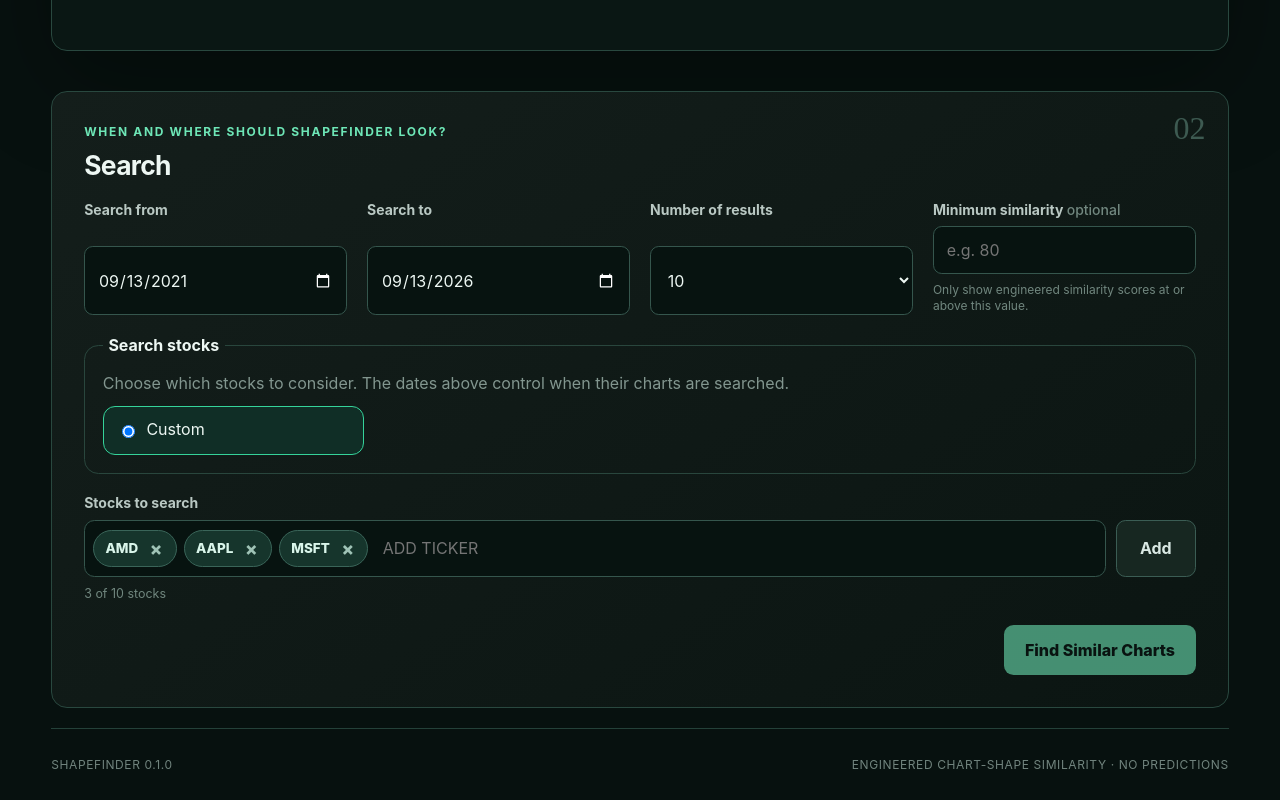
Scenario: candidate symbol controls › accepts comma-separated paste and enforces the 10-symbol maximum
This screenshot has width=1280, height=800.
(page scrolled)
Type "S1,S2,S3,S4,S5,S6,S7,S8" into the field labelled "Stocks to search" at (736,548), box [376,529,1097,568]
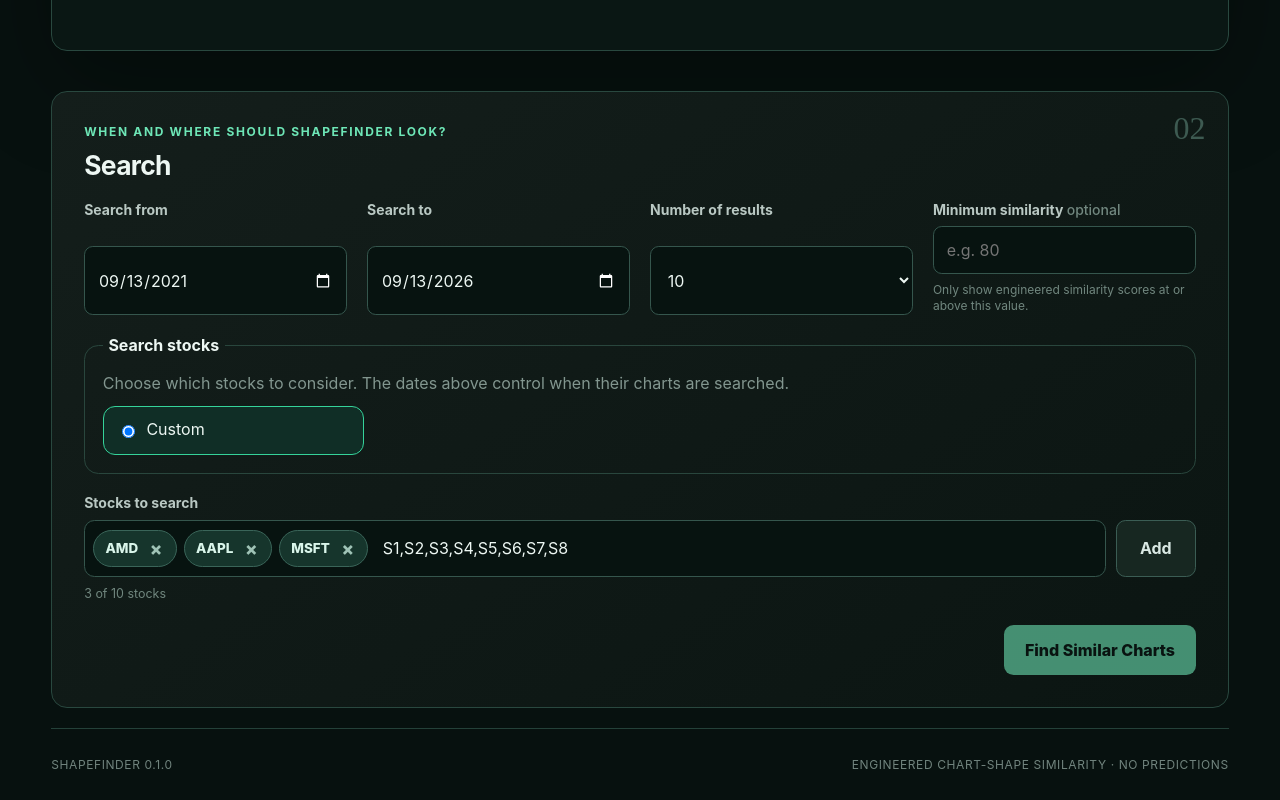
Press Enter in the field labelled "Stocks to search", box [376,529,1097,568]
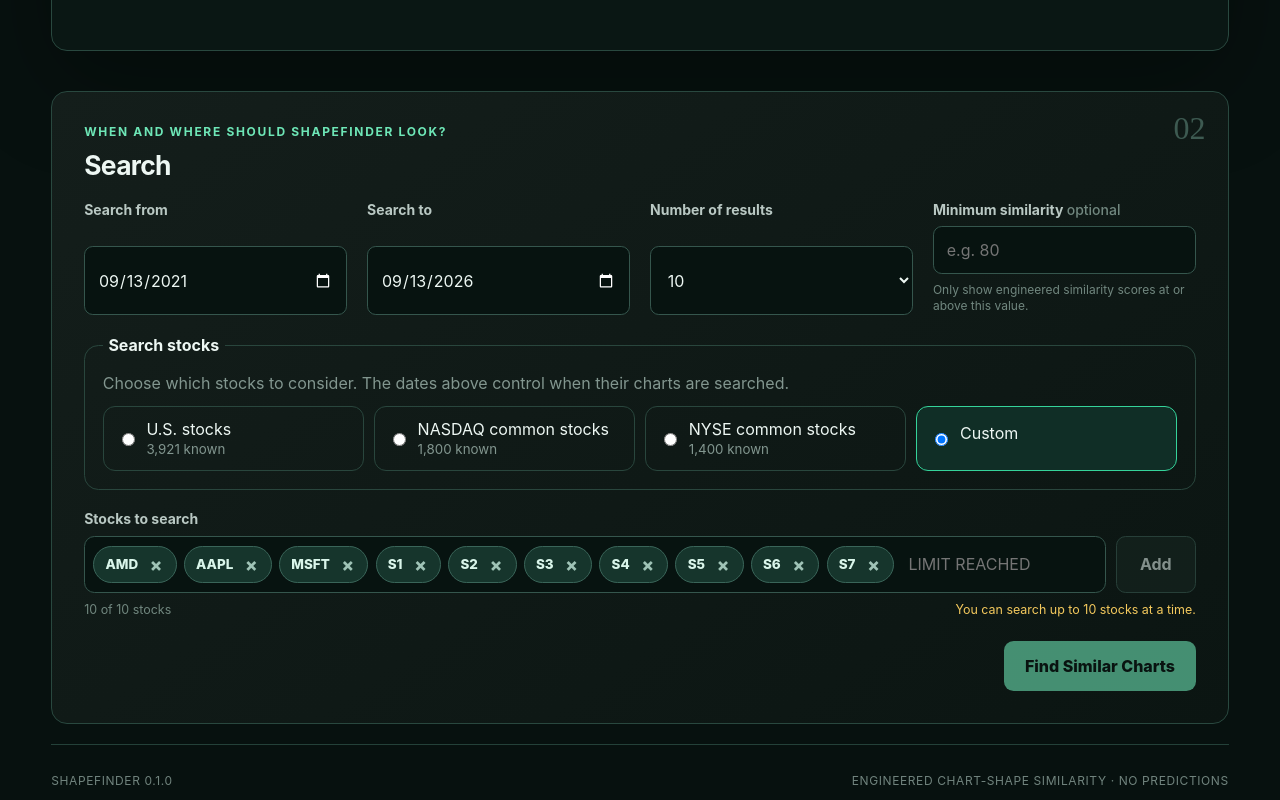
Now the text "10 of 10 stocks" is shown, box [84,602,171,617]
Now the field labelled "Stocks to search" is disabled, box [901,545,1097,584]
Now the text "You can search up to 10 stocks at a time." is shown, box [955,602,1196,617]
